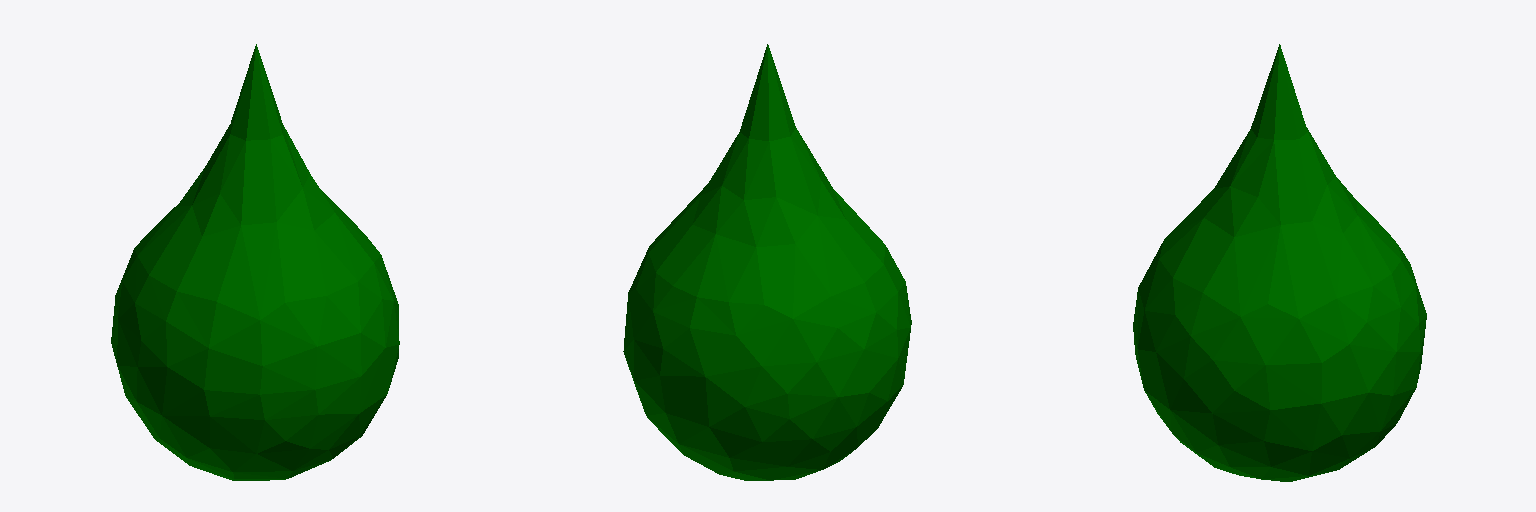
The model's file is Earth-Mana.obj.
3 renders of one model, left to right at view 1: azimuth 30°, elevation 25°; view 2: azimuth 150°, elevation 25°; view 3: azimuth 270°, elevation 25°, orthographic.
Parts seen in each view (by area): view 1: Sphere_Sphere.001; view 2: Sphere_Sphere.001; view 3: Sphere_Sphere.001.
Boxes of the visible parts, x1,y1,x2,y2 form: Sphere_Sphere.001: [111, 44, 399, 480]; Sphere_Sphere.001: [623, 44, 911, 480]; Sphere_Sphere.001: [1133, 44, 1426, 481].
Size of the model in its own units: 0.8591 by 1.4 by 0.8792.